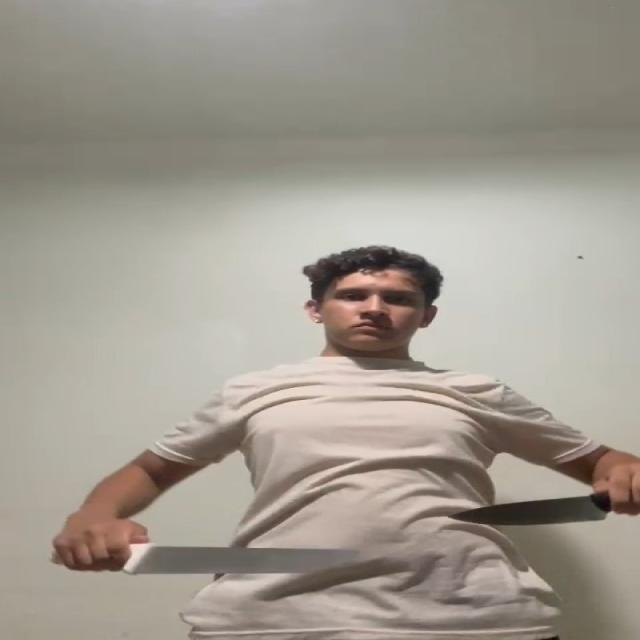knife: (133, 544, 372, 576), (446, 494, 614, 532)
